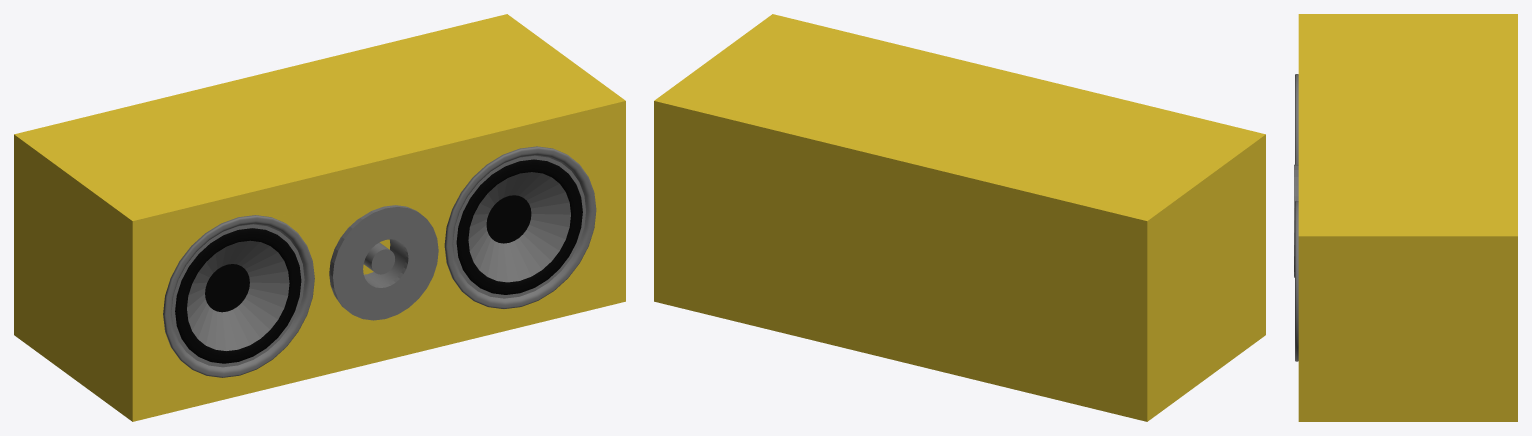
The model's file is 스피커_노.FBX.
3 renders of one model, left to right at view 1: azimuth 30°, elevation 25°; view 2: azimuth 150°, elevation 25°; view 3: azimuth 270°, elevation 25°, orthographic. The views are drawn at different scales.
Parts seen in each view (by area): view 1: Box010, Circle031, Circle032, Circle030; view 2: Box010; view 3: Box010, Circle031, Circle032, Circle030.
Boxes of the visible parts, box(x1,y1,x2,y2) form: Box010: box(14, 14, 625, 421); Circle031: box(444, 146, 596, 308); Circle032: box(163, 215, 314, 377); Circle030: box(329, 205, 438, 320); Box010: box(654, 14, 1265, 421); Box010: box(1298, 14, 1517, 421); Circle031: box(1295, 201, 1298, 361); Circle032: box(1295, 74, 1298, 164); Circle030: box(1294, 164, 1298, 277).
Size of the model in its own units: 497 by 193 by 211.
